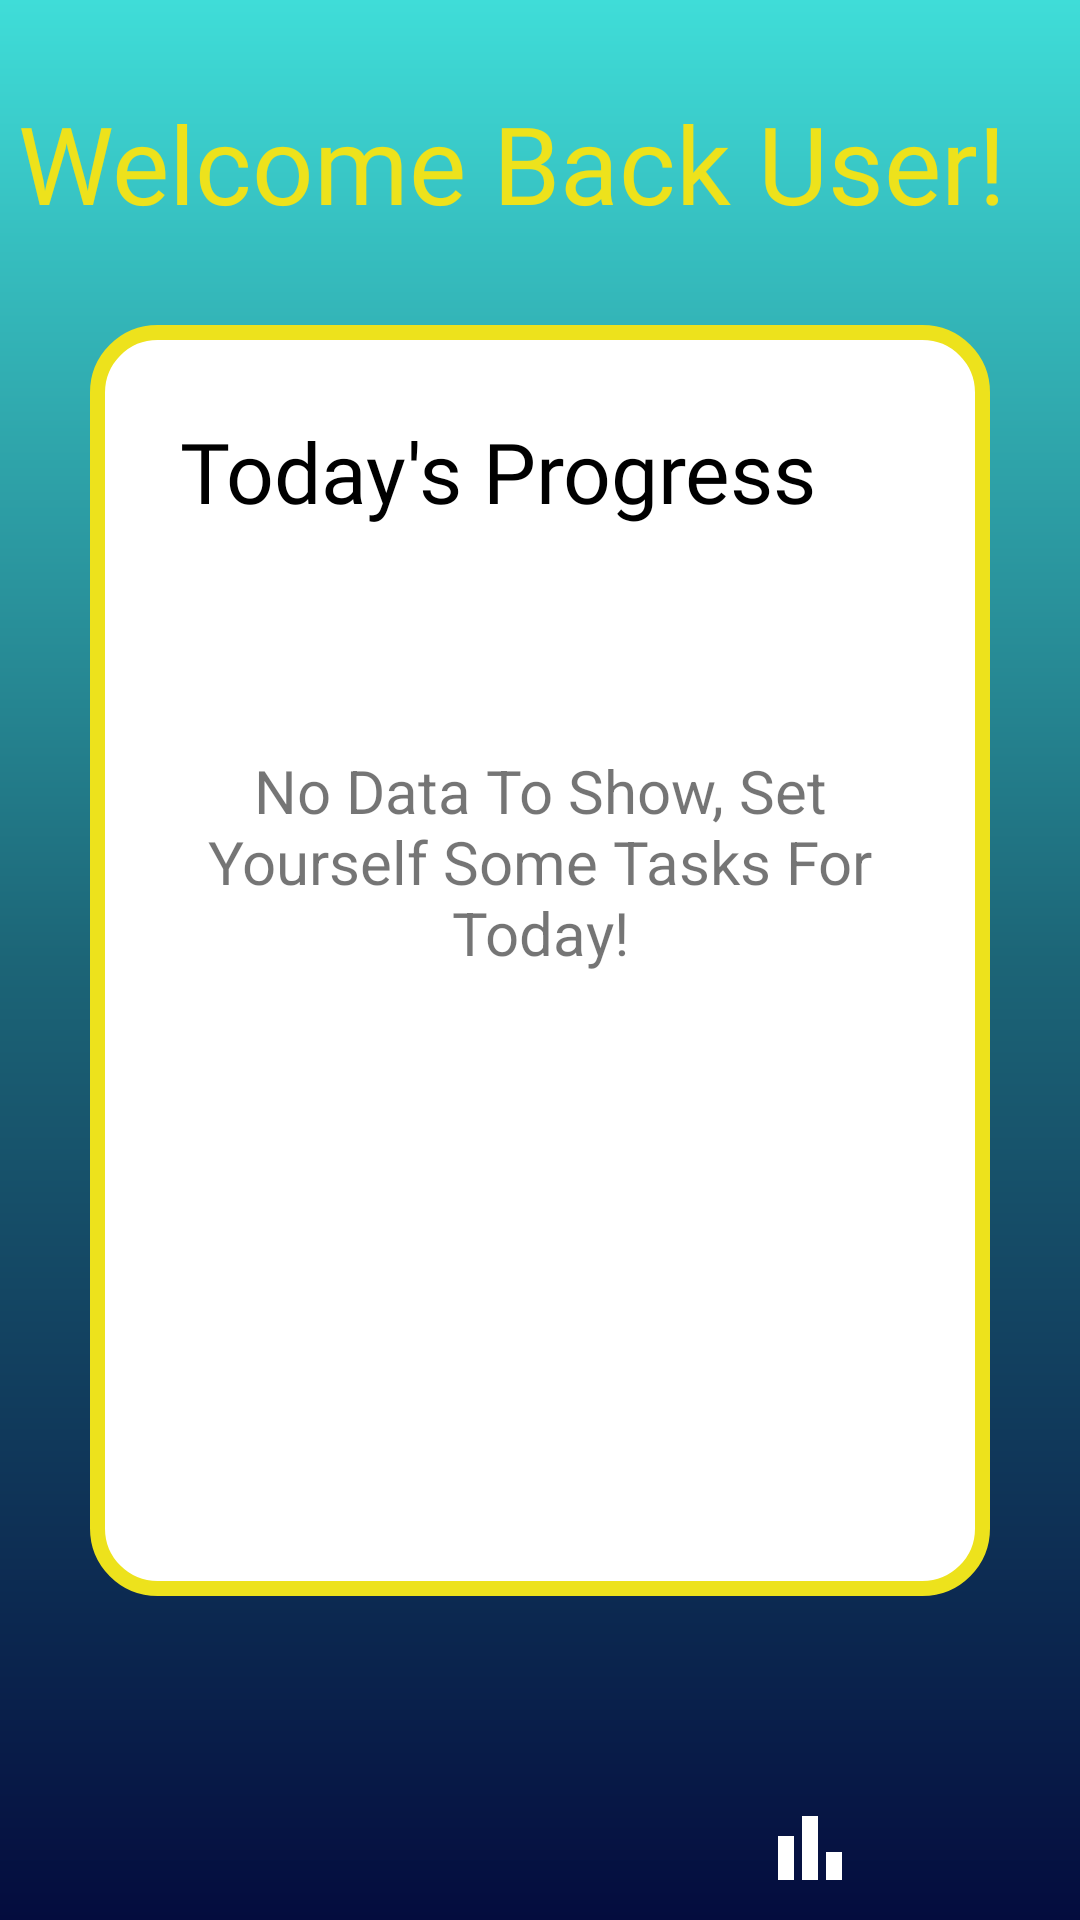

Icon bounding boxes for this 1080px x 1920px phone screenshot, format box=[x1, y1, x2, y2]:
Stats Button: box=[778, 1816, 842, 1880]
